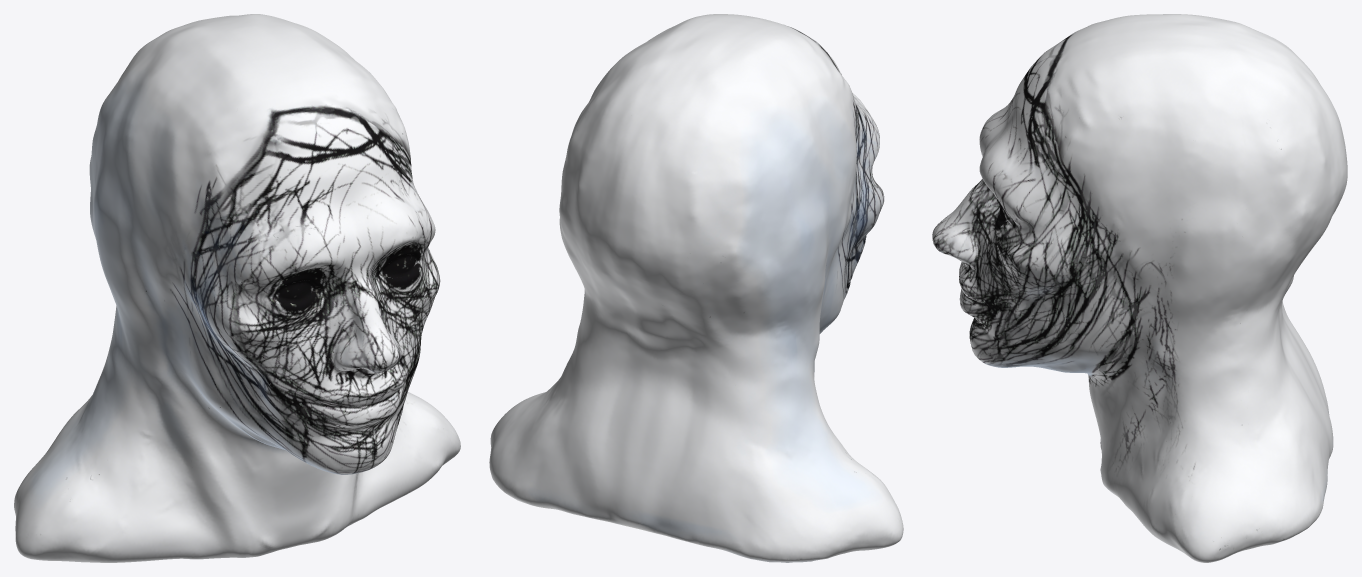
The model's file is thirties2.glb.
3 renders of one model, left to right at view 1: azimuth 30°, elevation 25°; view 2: azimuth 150°, elevation 25°; view 3: azimuth 270°, elevation 25°, orthographic. The views are drawn at different scales.
Parts seen in each view (by area): view 1: Mesh_0; view 2: Mesh_0; view 3: Mesh_0.
Part boxes in pixels (x1,y1,x2,y2): Mesh_0: (14, 14, 460, 562); Mesh_0: (489, 14, 903, 562); Mesh_0: (932, 14, 1347, 562).
Size of the model in its own units: 1.77 by 1.9 by 1.6.
Materials: 1 (1 with a texture image).
